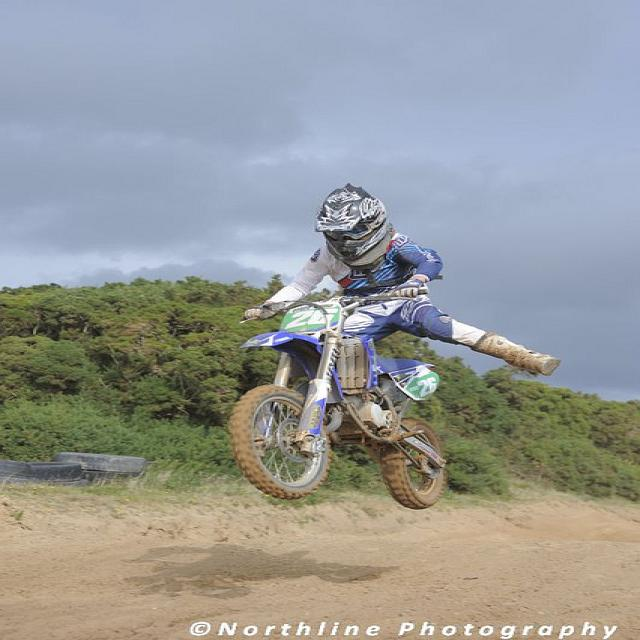motor: (224, 288, 458, 505)
